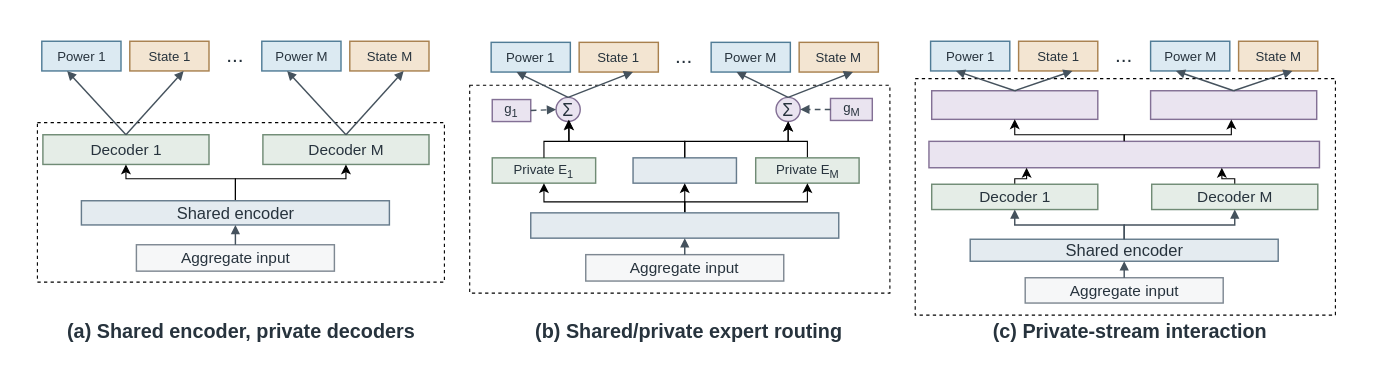
The diagram is 1378 pixels wide and 366 high, and some of its shapes have lost their labels. The shapes that lost their labels are listed below. From the top down, each one's centre as x and y in pixels, then its label:
At point 1014,105: "Refine 1".
At point 1233,105: "Refine M".
At point 684,170: "Shared E s".
At point 1124,154: "Cross-appliance feature interaction".
At point 684,225: "Shared representation".
